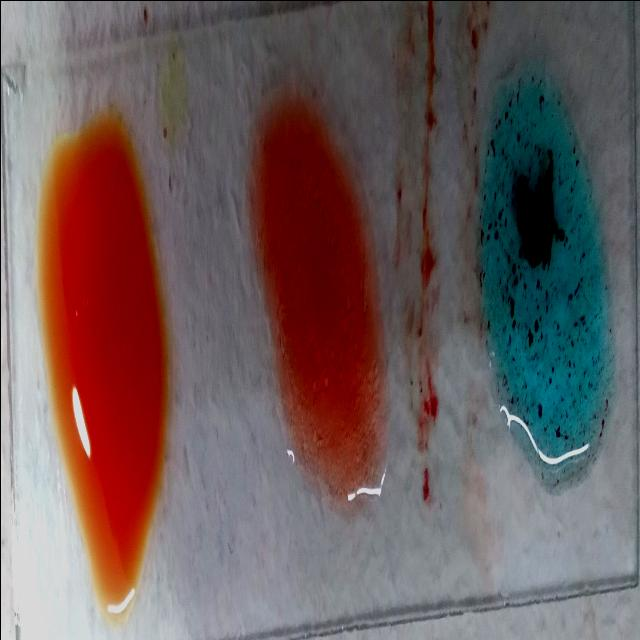A: (484, 73, 606, 481)
D: (260, 96, 376, 490)
